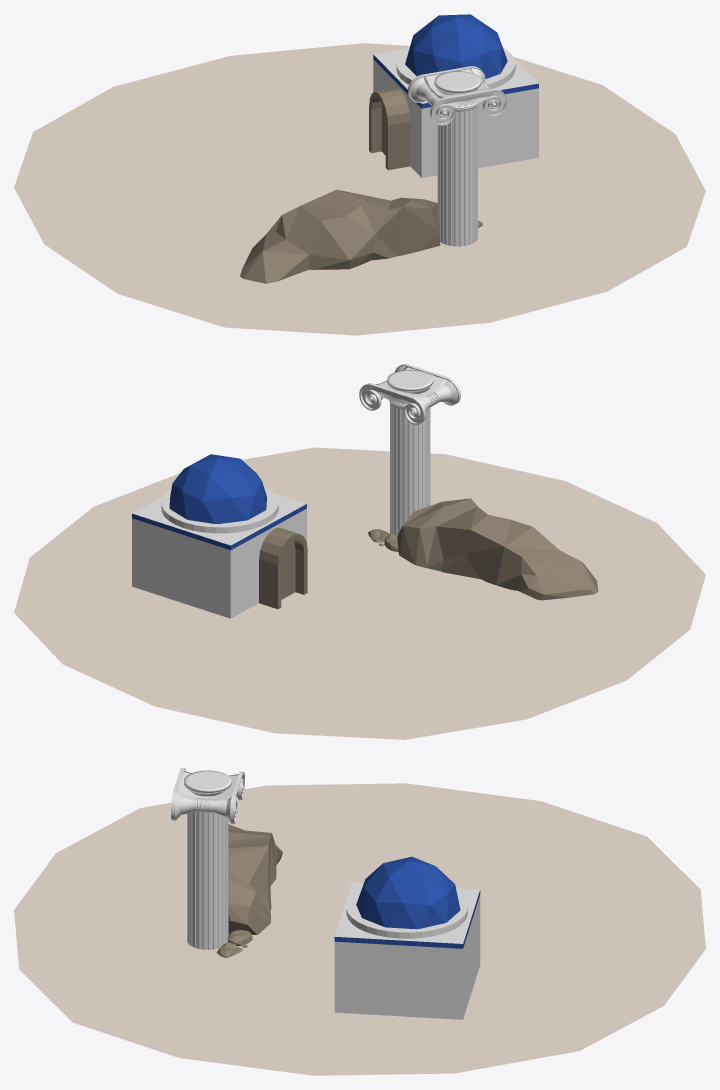
Rendered from monde1.glb.
3 renders of one model, top to bottom at view 1: azimuth 30°, elevation 25°; view 2: azimuth 150°, elevation 25°; view 3: azimuth 270°, elevation 25°, orthographic. The views are drawn at different scales.
Visible parts, largest first — view 1: Plane, Cube, Cube.001, Column_Plane.010, Icosphere.003, Cylinder.001, Volute_Circle.014, Cylinder; view 2: Plane, Cube, Cube.001, Icosphere.003, Column_Plane.010, Cylinder.001, Volute_Circle.014, Cylinder; view 3: Plane, Cube.001, Column_Plane.010, Icosphere.003, Cube, Volute_Circle.014, Cylinder.
Boxes of the visible parts, x1,y1,x2,y2 form: Plane: (14, 43, 705, 335); Cube: (240, 189, 440, 283); Cube.001: (373, 46, 538, 177); Column_Plane.010: (434, 71, 481, 246); Icosphere.003: (405, 14, 507, 78); Cylinder.001: (369, 88, 410, 170); Volute_Circle.014: (408, 66, 507, 125); Cylinder: (396, 47, 515, 89); Plane: (14, 447, 705, 739); Cube: (397, 498, 598, 600); Cube.001: (132, 493, 306, 618); Icosphere.003: (169, 454, 266, 523); Column_Plane.010: (387, 369, 433, 535); Cylinder.001: (259, 527, 307, 609); Volute_Circle.014: (359, 364, 460, 424); Cylinder: (161, 486, 278, 533); Plane: (14, 783, 705, 1075); Cube.001: (334, 882, 480, 1019); Column_Plane.010: (184, 770, 231, 949); Icosphere.003: (356, 856, 460, 929); Cube: (228, 824, 282, 934); Volute_Circle.014: (171, 768, 244, 824); Cylinder: (346, 890, 467, 938).
Bounding box in the file's own units: 27.34 × 8.89 × 27.34.
